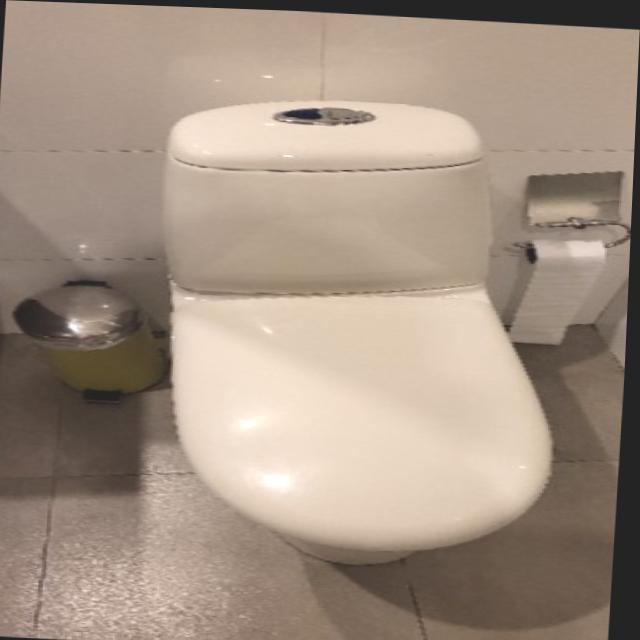toilet: (143, 87, 577, 571)
